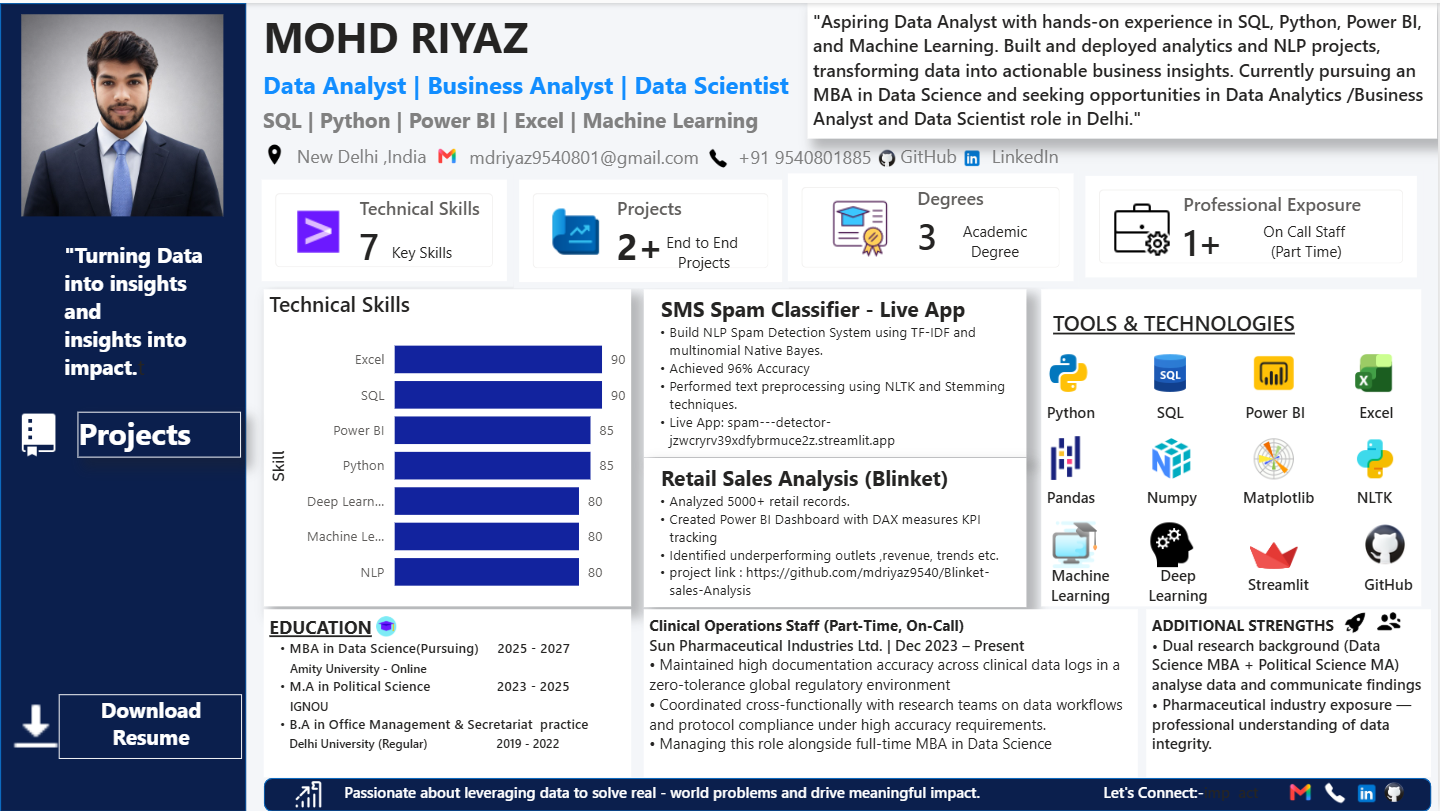

What the dashboard file says about the page in this screenshot:
{"tool":"powerbi","page":{"name":"Page 1","canvas":[1280,720],"ordinal":0},"visuals":[{"type":"shape","box":[0,0,219.6,720.4],"z":0},{"type":"textbox","box":[219.6,0,276.3,62.7],"z":0,"group":"g1"},{"type":"image","box":[19.2,9.6,179.8,179.8],"z":1000},{"type":"textbox","box":[229.3,53.1,495.8,45.8],"z":1000,"group":"g1"},{"type":"group","id":"g1","title":"Group 6","box":[219.6,0,732.3,154.4],"z":2000},{"type":"textbox","box":[229.3,86.9,472.9,39.8],"z":2000,"group":"g1"},{"type":"textbox","box":[719,0,561,120.6],"z":3000},{"type":"group","id":"g2","title":"Group 1","box":[229.3,120.6,164.1,31.4],"z":3000,"group":"g1"},{"type":"image","box":[229.3,126.6,30.2,18.1],"z":3000,"group":"g2"},{"type":"group","id":"g3","title":"Group 2","box":[383.7,121.9,250.9,31.4],"z":4000,"group":"g1"},{"type":"image","box":[383.7,127.9,30.2,18.1],"z":4000,"group":"g3"},{"type":"cardVisual","fields":{"Data":["Skills.Technical Skills"]},"box":[228.4,152.3,228.4,100.3],"z":4000,"group":"g10"},{"type":"clusteredBarChart","title":"Technical Skills","fields":{"Category":["Skills.Skill"],"Y":["Sum(Skills.Level)"]},"box":[235,255,327.4,282.4],"z":4000},{"type":"group","id":"g4","title":"Group 3","box":[627.4,121.9,158,32.6],"z":5000,"group":"g1"},{"type":"image","box":[627.4,129.1,25.3,18.1],"z":5000,"group":"g4"},{"type":"textbox","box":[343.8,207.5,65.1,30.2],"z":5000,"group":"g10"},{"type":"textbox","box":[573.6,255,341.2,150],"z":5000},{"type":"image","box":[774.6,129,30.2,18.1],"z":5001,"group":"g5"},{"type":"image","box":[850.6,129,30.2,18.1],"z":5002,"group":"g6"},{"type":"textbox","box":[259.5,120.6,133.9,31.4],"z":5006,"group":"g2"},{"type":"textbox","box":[409,121.9,225.6,31.4],"z":5007,"group":"g3"},{"type":"textbox","box":[652.7,121.9,132.7,32.6],"z":5008,"group":"g4"},{"type":"textbox","box":[796.3,120.6,70,32.6],"z":5009,"group":"g5"},{"type":"textbox","box":[878.3,120.6,73.6,32.6],"z":5010,"group":"g6"},{"type":"group","id":"g5","title":"Group 4","box":[774.6,120.6,91.7,32.6],"z":6000,"group":"g1"},{"type":"cardVisual","fields":{"Data":["Projects.Projects"]},"box":[457.2,152,244.9,101.3],"z":6000,"group":"g7"},{"type":"textbox","box":[573.6,404.9,341.2,132.5],"z":6000},{"type":"group","id":"g6","title":"Group 5","box":[850.6,120.6,101.3,32.6],"z":7000,"group":"g1"},{"type":"group","id":"g7","title":"Group 8","box":[228.4,152,473.7,101.3],"z":7000},{"type":"textbox","box":[586.3,199.1,80.8,49.5],"z":7000,"group":"g7"},{"type":"group","id":"g8","title":"Group 9","box":[697.3,147.2,264.2,106.2],"z":8000},{"type":"cardVisual","fields":{"Data":["Education.Degrees"]},"box":[697.3,147.2,264.2,106.2],"z":8000,"group":"g8"},{"type":"group","id":"g9","title":"Group 10","box":[961.5,149.6,305.2,100.1],"z":9000},{"type":"textbox","box":[836,189.4,100.1,59.1],"z":9000,"group":"g8"},{"type":"cardVisual","fields":{"Data":["Experience.Professional Exposure"]},"box":[961.5,149.6,305.2,100.1],"z":10000,"group":"g9"},{"type":"shape","box":[927.3,255,338.7,282.4],"z":10000},{"type":"textbox","box":[1114.4,189.8,97.9,48.3],"z":11000,"group":"g9"},{"type":"image","box":[1203.5,308.7,42.5,42.5],"z":11000},{"type":"image","box":[1212.3,461.2,42.5,42.5],"z":12000},{"type":"image","box":[1021.1,308.7,42.5,42.5],"z":13000},{"type":"image","box":[936.1,461.2,42.5,42.5],"z":14000},{"type":"image","box":[1113.5,471.2,42.5,42.5],"z":15000},{"type":"group","id":"g10","title":"Group 7","box":[228.4,152.3,228.4,100.3],"z":15003,"group":"g7"},{"type":"image","box":[931,308.7,42.5,42.5],"z":15016,"group":"g11"},{"type":"textbox","box":[927.3,351.2,55,28.7],"z":15021,"group":"g11"},{"type":"image","box":[1022.3,383.7,42.5,42.5],"z":16000},{"type":"image","box":[927.3,383.7,42.5,42.5],"z":17000},{"type":"image","box":[1022.3,461.2,42.5,42.5],"z":18000},{"type":"image","box":[1113.5,308.7,42.5,42.5],"z":19000},{"type":"image","box":[1203.5,384.9,42.5,41.2],"z":20000},{"type":"image","box":[1113.5,384.9,42.5,41.2],"z":21000},{"type":"textbox","box":[932.3,267.5,231.2,41.2],"z":22000},{"type":"textbox","box":[1024.8,351.2,48.7,28.7],"z":23000},{"type":"textbox","box":[1104.8,351.2,63.7,28.7],"z":24000},{"type":"textbox","box":[1206,351.2,47.5,28.7],"z":25000},{"type":"textbox","box":[927.3,426.2,55,28.7],"z":26000},{"type":"textbox","box":[1016.1,426.2,55,28.7],"z":27000},{"type":"textbox","box":[1102.3,426.2,77.5,28.7],"z":28000},{"type":"textbox","box":[1203.5,426.2,55,28.7],"z":29000},{"type":"textbox","box":[927.3,494.9,70,45],"z":30000},{"type":"textbox","box":[1013.6,494.9,70,45],"z":31000},{"type":"textbox","box":[1106,503.7,77.5,28.7],"z":32000},{"type":"textbox","box":[1209.8,503.7,53.7,28.7],"z":33000},{"type":"group","id":"g11","title":"Group 11","box":[927.3,308.7,55,71.2],"z":34000},{"type":"textbox","box":[235,539.9,327.4,150],"z":35000},{"type":"textbox","box":[573.6,539.9,439.9,150],"z":36000},{"type":"textbox","box":[1021.1,539.9,253.7,150],"z":37000},{"type":"image","box":[1196,539.9,22.5,23.7],"z":38000},{"type":"image","box":[1226,539.9,22.5,22.5],"z":39000},{"type":"image","box":[328.7,544.9,31.2,21.2],"z":40000},{"type":"shape","box":[235,689.9,1039.8,30],"z":41000},{"type":"textbox","box":[301.6,688.9,825.2,31.4],"z":42000},{"type":"image","box":[248.5,688.9,53.1,31.4],"z":43000},{"type":"image","box":[1147.3,692.5,20.5,20.5],"z":44000},{"type":"image","box":[1231.6,692.3,20.4,20.4],"z":45000},{"type":"image","box":[1206.8,693.8,20.4,20.4],"z":46000},{"type":"image","box":[1178.5,693.6,20,20],"z":47000},{"type":"textbox","box":[52.5,207,145.8,147.2],"z":48000},{"type":"actionButton","title":"Download Resume","box":[51.9,615.3,162.9,57.9],"z":48001,"group":"g12"},{"type":"image","box":[0,621.3,63.9,45.8],"z":48002,"group":"g12"},{"type":"group","id":"g12","title":"Group 12","box":[0,615.3,214.7,57.9],"z":48003},{"type":"actionButton","title":"Projects","box":[68.8,364.3,146,41],"z":48004},{"type":"image","box":[0,364.3,68.8,41],"z":48005}]}

Visuals, with their boxes in screenshot pixels (x1, y1, x2, y2), scaled from the page's 1280x720 canvas onto the 1440x811 screenshot:
shape: l=0, t=0, r=247, b=810
textbox: l=247, t=0, r=558, b=71
image: l=22, t=11, r=224, b=213
textbox: l=258, t=60, r=816, b=111
"Group 6" group: l=247, t=0, r=1071, b=174
textbox: l=258, t=98, r=790, b=143
textbox: l=809, t=0, r=1439, b=136
"Group 1" group: l=258, t=136, r=443, b=171
image: l=258, t=143, r=292, b=163
"Group 2" group: l=432, t=137, r=714, b=173
image: l=432, t=144, r=466, b=164
cardVisual - Skills.Technical Skills: l=257, t=172, r=514, b=285
"Technical Skills" clusteredBarChart: l=264, t=287, r=633, b=605
"Group 3" group: l=706, t=137, r=884, b=174
image: l=706, t=145, r=734, b=166
textbox: l=387, t=234, r=460, b=268
textbox: l=645, t=287, r=1029, b=456
image: l=871, t=145, r=905, b=166
image: l=957, t=145, r=991, b=166
textbox: l=292, t=136, r=443, b=171
textbox: l=460, t=137, r=714, b=173
textbox: l=734, t=137, r=884, b=174
textbox: l=896, t=136, r=975, b=173
textbox: l=988, t=136, r=1071, b=173
"Group 4" group: l=871, t=136, r=975, b=173
cardVisual - Projects.Projects: l=514, t=171, r=790, b=285
textbox: l=645, t=456, r=1029, b=605
"Group 5" group: l=957, t=136, r=1071, b=173
"Group 8" group: l=257, t=171, r=790, b=285
textbox: l=660, t=224, r=750, b=280
"Group 9" group: l=784, t=166, r=1082, b=285
cardVisual - Education.Degrees: l=784, t=166, r=1082, b=285
"Group 10" group: l=1082, t=169, r=1425, b=281
textbox: l=940, t=213, r=1053, b=280
cardVisual - Experience.Professional Exposure: l=1082, t=169, r=1425, b=281
shape: l=1043, t=287, r=1424, b=605
textbox: l=1254, t=214, r=1364, b=268
image: l=1354, t=348, r=1402, b=396
image: l=1364, t=519, r=1412, b=567
image: l=1149, t=348, r=1197, b=396
image: l=1053, t=519, r=1101, b=567
image: l=1253, t=531, r=1300, b=579
"Group 7" group: l=257, t=172, r=514, b=285
image: l=1047, t=348, r=1095, b=396
textbox: l=1043, t=396, r=1105, b=428
image: l=1150, t=432, r=1198, b=480
image: l=1043, t=432, r=1091, b=480
image: l=1150, t=519, r=1198, b=567
image: l=1253, t=348, r=1300, b=396
image: l=1354, t=434, r=1402, b=480
image: l=1253, t=434, r=1300, b=480
textbox: l=1049, t=301, r=1309, b=348
textbox: l=1153, t=396, r=1208, b=428
textbox: l=1243, t=396, r=1315, b=428
textbox: l=1357, t=396, r=1410, b=428
textbox: l=1043, t=480, r=1105, b=512
textbox: l=1143, t=480, r=1205, b=512
textbox: l=1240, t=480, r=1327, b=512
textbox: l=1354, t=480, r=1416, b=512
textbox: l=1043, t=557, r=1122, b=608
textbox: l=1140, t=557, r=1219, b=608
textbox: l=1244, t=567, r=1331, b=600
textbox: l=1361, t=567, r=1421, b=600
"Group 11" group: l=1043, t=348, r=1105, b=428
textbox: l=264, t=608, r=633, b=777
textbox: l=645, t=608, r=1140, b=777
textbox: l=1149, t=608, r=1434, b=777
image: l=1346, t=608, r=1371, b=635
image: l=1379, t=608, r=1405, b=633
image: l=370, t=614, r=405, b=638
shape: l=264, t=777, r=1434, b=810
textbox: l=339, t=776, r=1268, b=810
image: l=280, t=776, r=339, b=810
image: l=1291, t=780, r=1314, b=803
image: l=1386, t=780, r=1408, b=803
image: l=1358, t=781, r=1381, b=804
image: l=1326, t=781, r=1348, b=804
textbox: l=59, t=233, r=223, b=399
"Download Resume" actionButton: l=58, t=693, r=242, b=758
image: l=0, t=700, r=72, b=751
"Group 12" group: l=0, t=693, r=242, b=758
"Projects" actionButton: l=77, t=410, r=242, b=457
image: l=0, t=410, r=77, b=457
